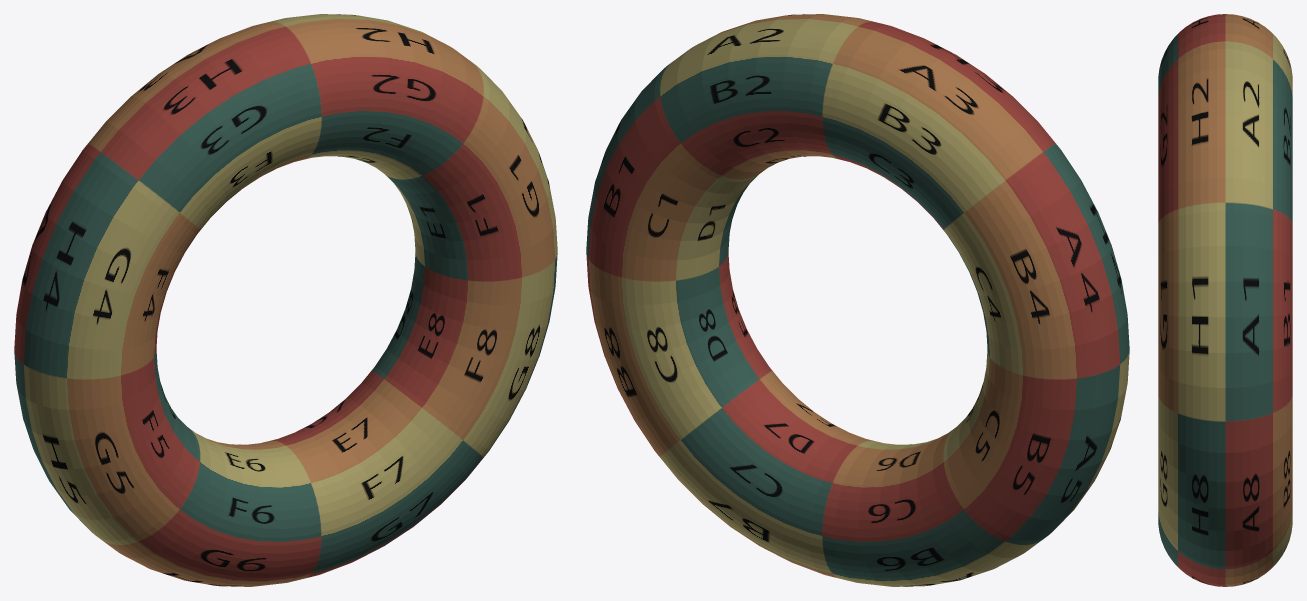
Rendered from texture_torus_R13_r14.glb.
3 views of the same model, side by side, from view 1: azimuth 30°, elevation 25°; view 2: azimuth 150°, elevation 25°; view 3: azimuth 270°, elevation 25° (orthographic). The views are drawn at different scales.
Visible parts, largest first — view 1: world; view 2: world; view 3: world.
Boxes of the visible parts, x1,y1,x2,y2 form: world: (14,14,557,586); world: (586,14,1129,586); world: (1158,14,1292,586).
Bounding box in the file's own units: 24.4 × 24.35 × 5.72.
Materials: 1 (1 with a texture image).
